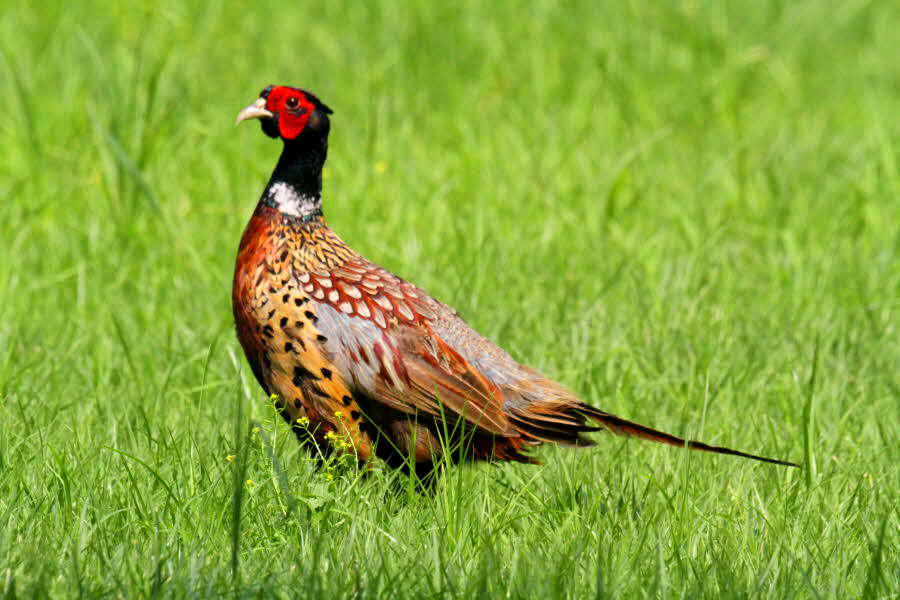pheasant: (225, 76, 698, 480)
